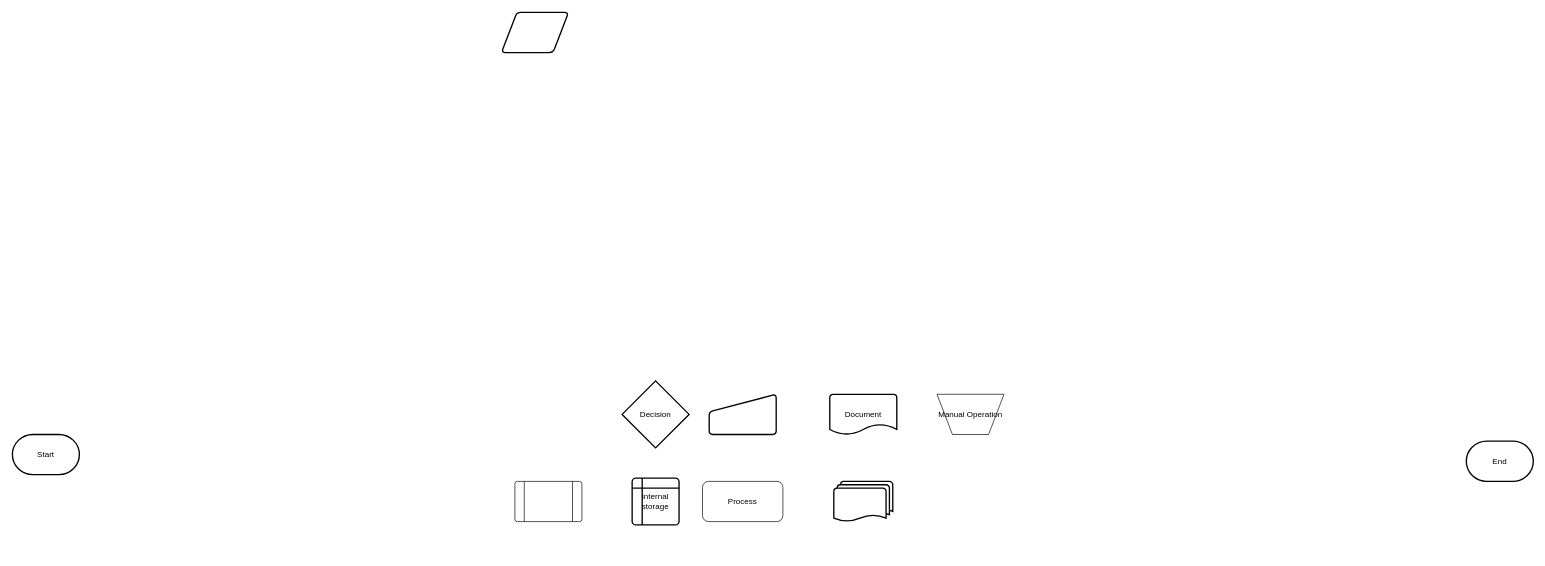
Image size: 1545x566. Some labels were removed from this diagram. Here are the shapes that lost their labels. From the top down, the box of each, then its label:
(500, 11, 569, 53): Data
(708, 393, 777, 435): manual input
(514, 481, 582, 522): Pre defined process (off to a different workflow)
(833, 480, 893, 522): Multi Document
